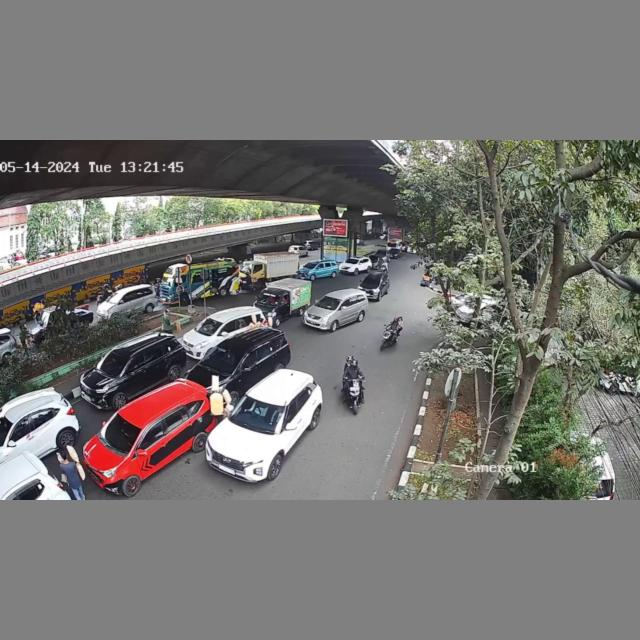windshield: (99, 409, 143, 457), (233, 396, 285, 435), (204, 341, 244, 374), (96, 351, 131, 376), (195, 317, 222, 333), (314, 295, 340, 311), (258, 291, 282, 306)
